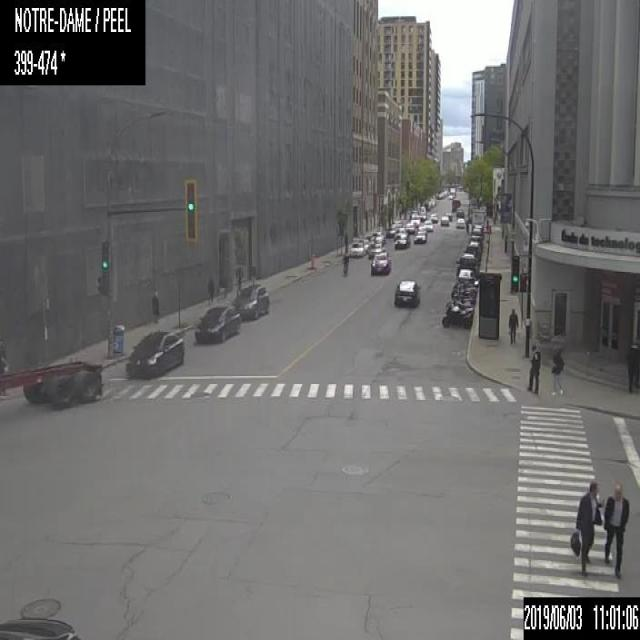construction: (484, 220, 490, 243)
cyclist: (342, 252, 349, 274)
pedestrian: (568, 477, 602, 579), (602, 484, 631, 580), (526, 342, 540, 394), (550, 348, 564, 396), (626, 339, 638, 394), (506, 306, 518, 346), (151, 284, 160, 323), (205, 272, 213, 303), (343, 230, 349, 254)
vehicle: (0, 357, 103, 407), (124, 327, 181, 381), (0, 613, 80, 639), (194, 304, 240, 344), (232, 284, 270, 319), (393, 277, 419, 308), (441, 305, 473, 328), (457, 252, 479, 278), (370, 251, 390, 275), (446, 298, 474, 311), (462, 245, 480, 263), (450, 286, 476, 298), (370, 230, 385, 245), (349, 242, 364, 257), (368, 244, 384, 258), (394, 234, 409, 248), (413, 229, 427, 243), (354, 238, 368, 251), (453, 278, 475, 286), (467, 239, 480, 252), (394, 226, 408, 238), (404, 222, 415, 234), (386, 225, 396, 238), (437, 188, 448, 199), (410, 216, 420, 227), (456, 214, 464, 227), (440, 214, 448, 226), (455, 206, 463, 218), (423, 220, 432, 229), (443, 211, 451, 221), (471, 227, 481, 235), (470, 235, 480, 242), (429, 212, 436, 222)
